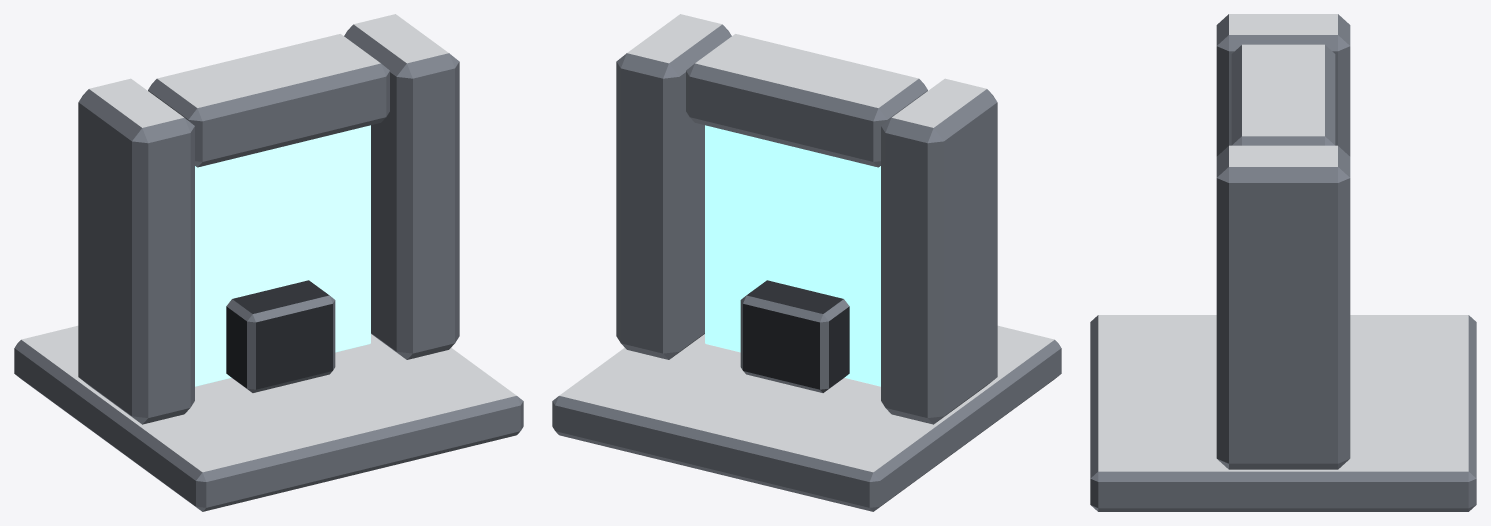
File: R4X_StructuralScanner_LOD1.fbx
3 views of the same model, side by side, from view 1: azimuth 30°, elevation 25°; view 2: azimuth 150°, elevation 25°; view 3: azimuth 270°, elevation 25° (orthographic). The views are drawn at different scales.
Visible parts, largest first — view 1: R4X_StructuralScanner_LOD1; view 2: R4X_StructuralScanner_LOD1; view 3: R4X_StructuralScanner_LOD1.
Part boxes in pixels (x1=…): R4X_StructuralScanner_LOD1: x1=14, y1=14, x2=523, y2=511; R4X_StructuralScanner_LOD1: x1=552, y1=14, x2=1061, y2=511; R4X_StructuralScanner_LOD1: x1=1090, y1=14, x2=1476, y2=511.
Bounding box in the file's own units: 0.52 × 0.51 × 0.52.
